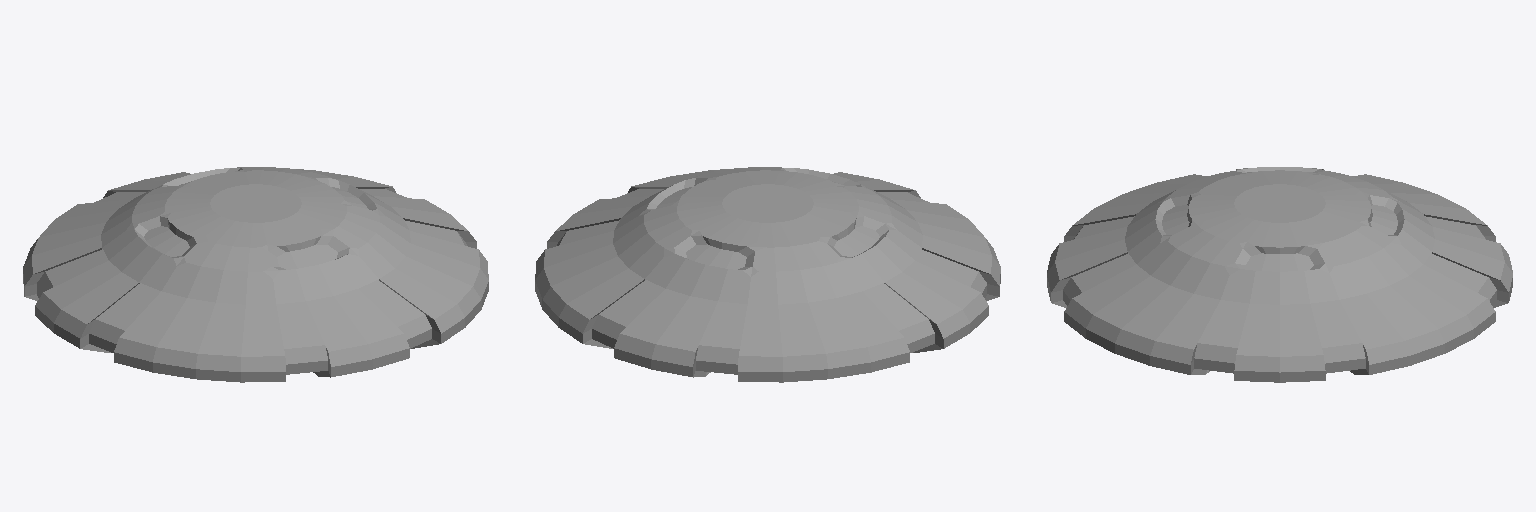
File: spaceship.obj
3 renders of one model, left to right at view 1: azimuth 30°, elevation 25°; view 2: azimuth 150°, elevation 25°; view 3: azimuth 270°, elevation 25°, orthographic.
Visible parts, largest first — view 1: Cube.010_Mesh.001, Cube.012_Mesh; view 2: Cube.010_Mesh.001, Cube.012_Mesh; view 3: Cube.010_Mesh.001, Cube.012_Mesh.
Boxes of the visible parts, x1,y1,x2,y2 form: Cube.010_Mesh.001: [23, 168, 488, 382]; Cube.012_Mesh: [101, 167, 410, 304]; Cube.010_Mesh.001: [535, 168, 1000, 382]; Cube.012_Mesh: [613, 167, 922, 304]; Cube.010_Mesh.001: [1047, 168, 1512, 382]; Cube.012_Mesh: [1125, 167, 1434, 304].
Size of the model in its own units: 13.61 by 3.37 by 13.61.